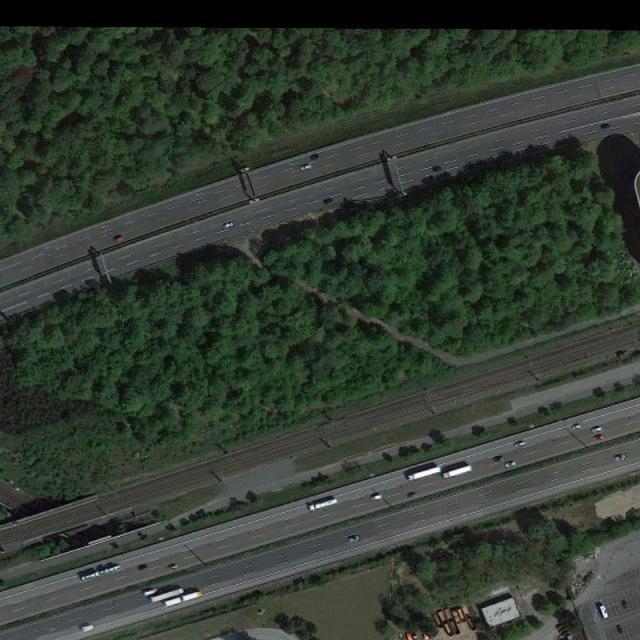vehicle: (163, 590, 202, 606), (149, 587, 184, 604), (405, 466, 442, 482), (442, 464, 473, 480), (308, 497, 338, 512), (143, 588, 160, 598), (370, 492, 384, 503), (614, 452, 627, 462), (222, 219, 234, 229), (504, 460, 516, 470), (616, 624, 626, 636), (82, 624, 95, 633), (515, 439, 526, 449), (621, 600, 630, 612), (432, 164, 443, 173), (309, 154, 320, 163), (349, 534, 360, 543), (298, 164, 312, 171), (322, 197, 334, 205), (590, 426, 602, 434), (569, 424, 581, 431), (114, 236, 123, 245), (601, 122, 611, 130), (167, 563, 177, 571), (593, 434, 603, 442), (405, 491, 416, 498), (493, 456, 503, 463), (138, 564, 147, 570)
